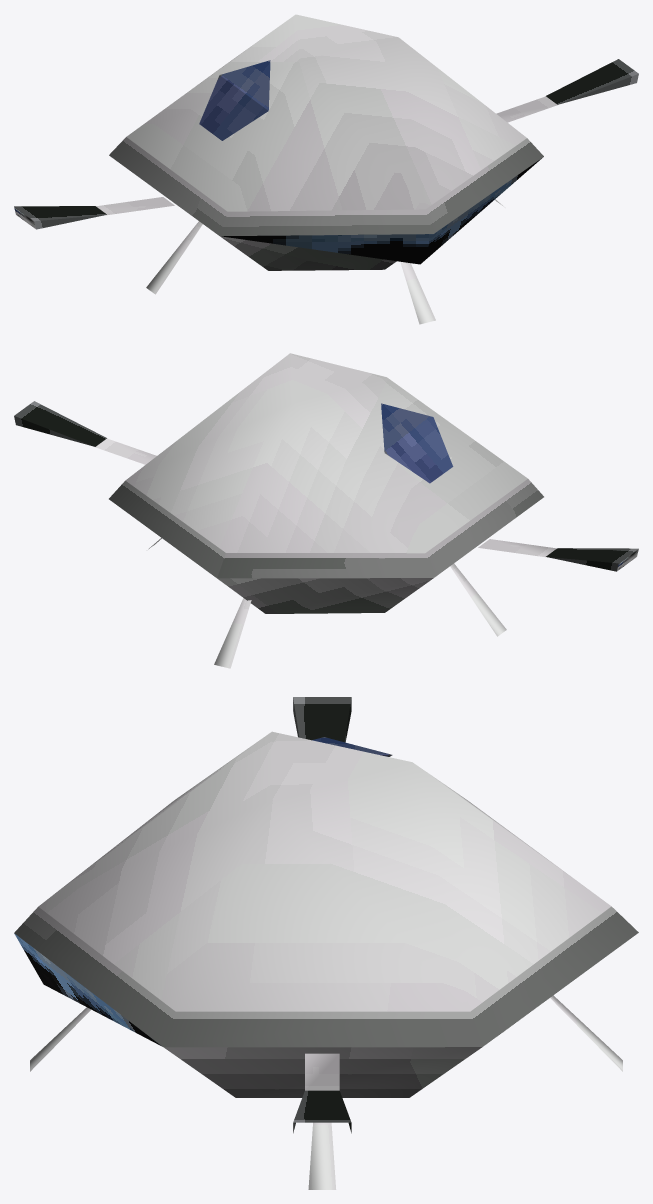
Rendered from edb_con_tureen_full_l3.fbx.
3 views of the same model, one above another, from view 1: azimuth 30°, elevation 25°; view 2: azimuth 150°, elevation 25°; view 3: azimuth 270°, elevation 25° (orthographic). The views are drawn at different scales.
Parts seen in each view (by area): view 1: mesh_node; view 2: mesh_node; view 3: mesh_node.
Part boxes in pixels (x1,y1,x2,y2): mesh_node: (14, 14, 638, 324); mesh_node: (14, 353, 638, 668); mesh_node: (14, 697, 638, 1189).
Size of the model in its own units: 0.4254 by 0.1418 by 0.264.
